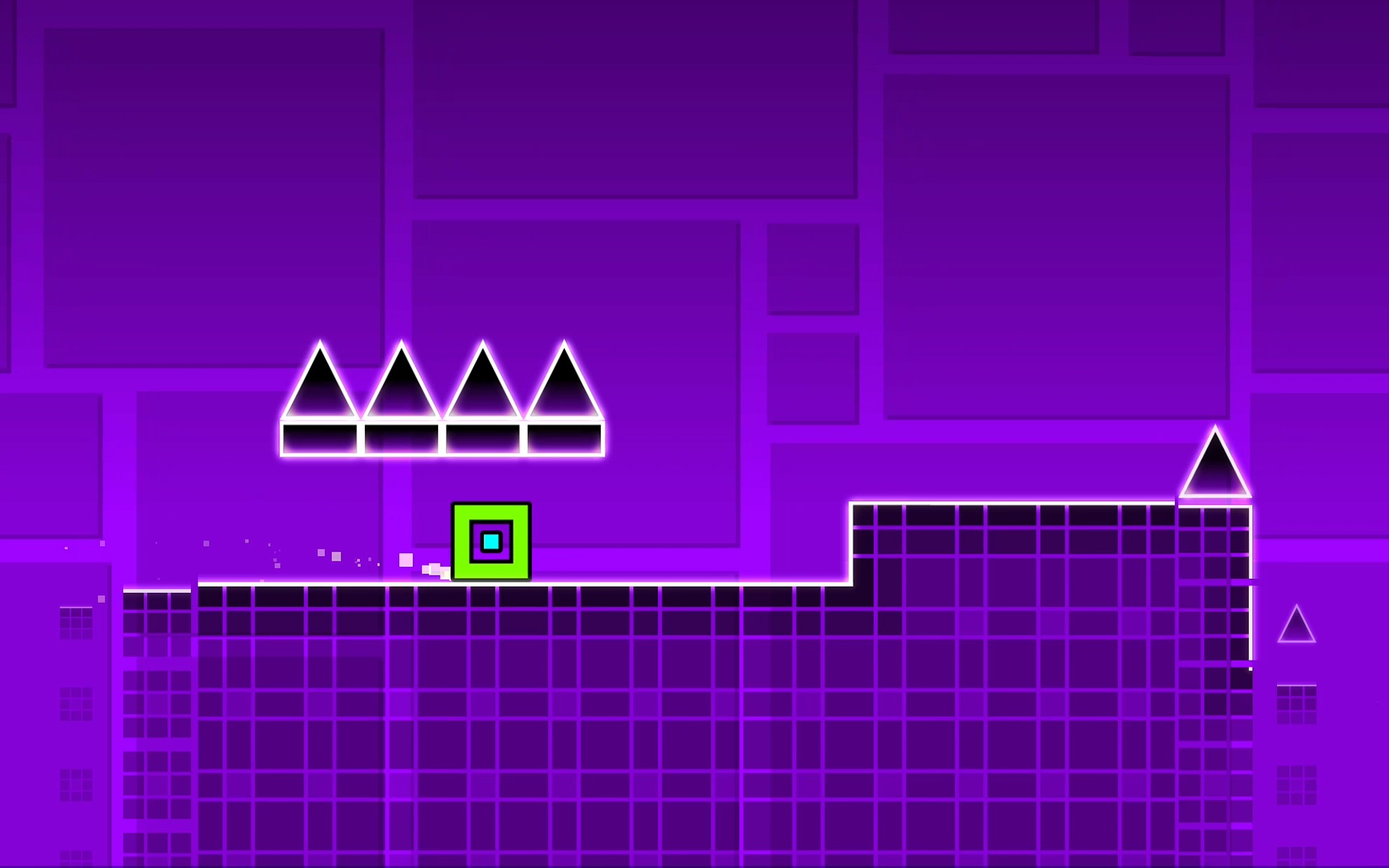Block2: (120, 582, 851, 860), (851, 500, 1251, 868)
Block3: (281, 421, 361, 456), (361, 420, 442, 454), (446, 423, 524, 455), (527, 420, 598, 455)
Player: (450, 503, 529, 580)
Spike: (281, 340, 357, 419), (526, 341, 602, 418), (364, 342, 438, 416), (446, 342, 519, 417), (1178, 425, 1250, 499), (1279, 604, 1318, 641)
